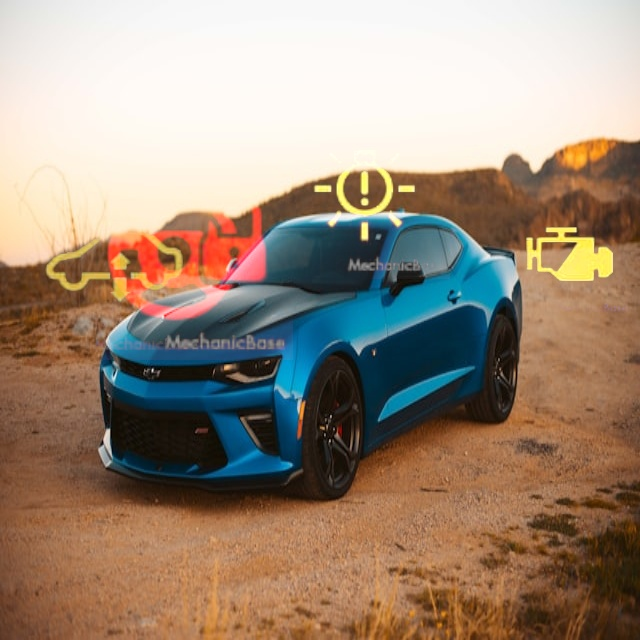symbol: (83, 150, 293, 360), (23, 177, 205, 359), (283, 112, 450, 279), (506, 192, 632, 318)
